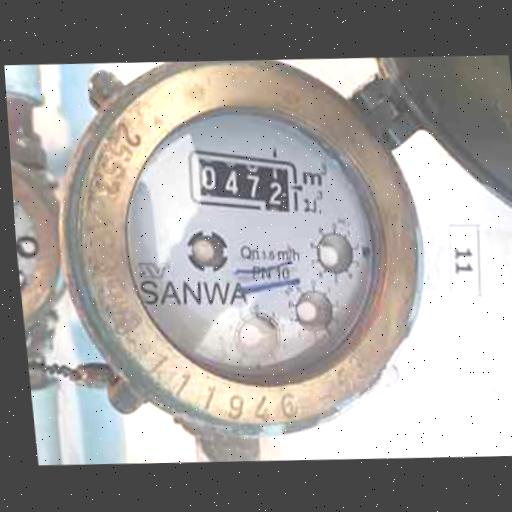0: (196, 156, 221, 198)
2: (260, 164, 291, 213)
4: (217, 159, 245, 199)
7: (238, 160, 266, 202)
border_water_meter_number: (181, 144, 305, 217)
